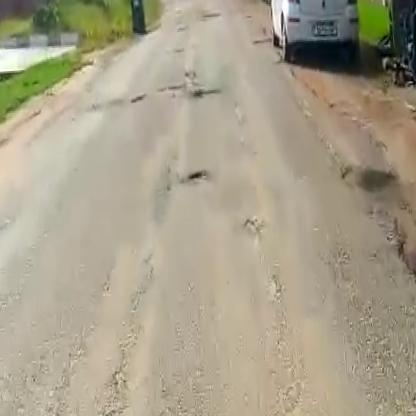pothole: (180, 168, 209, 188)
